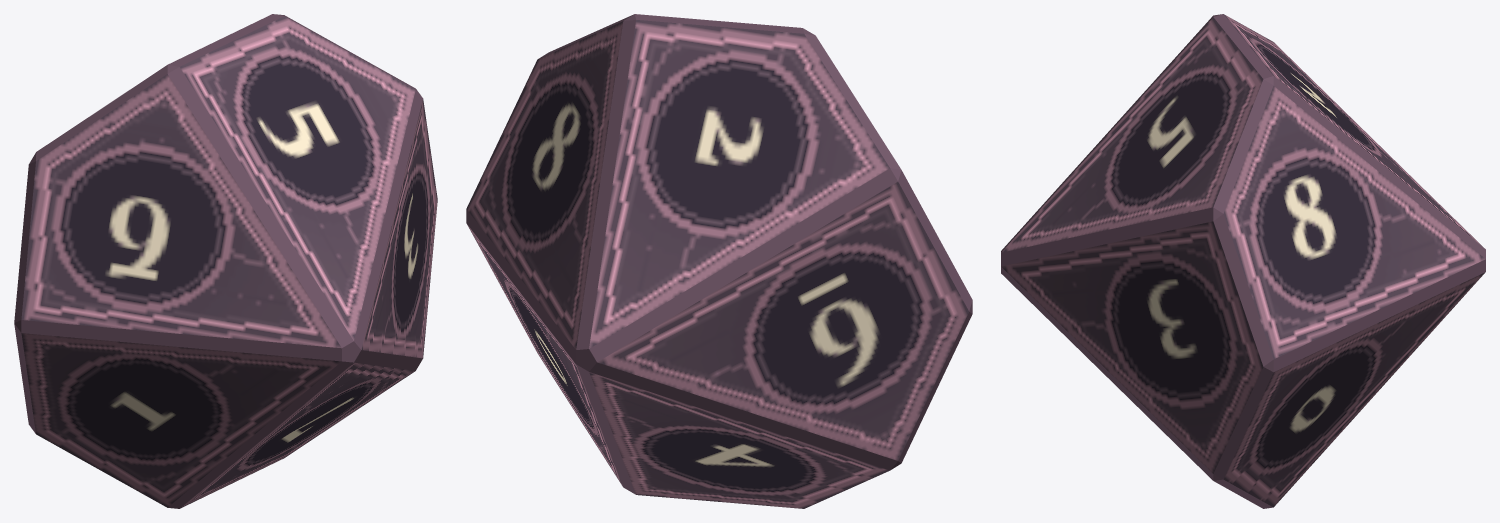
The picture shows the model from 3 angles, left to right: view 1: azimuth 30°, elevation 25°; view 2: azimuth 150°, elevation 25°; view 3: azimuth 270°, elevation 25°; orthographic projection. The views are drawn at different scales.
Size of the model in its own units: 188 by 179 by 183.
1 material, 1 textured.
